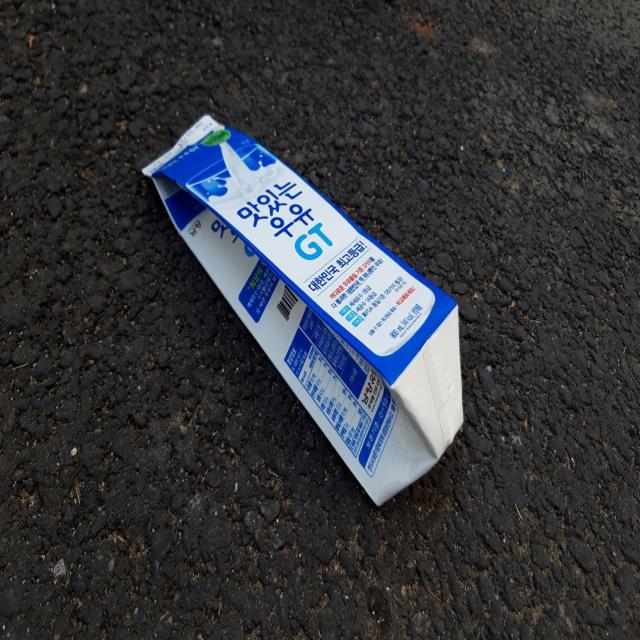paperpack: (142, 114, 464, 504)
